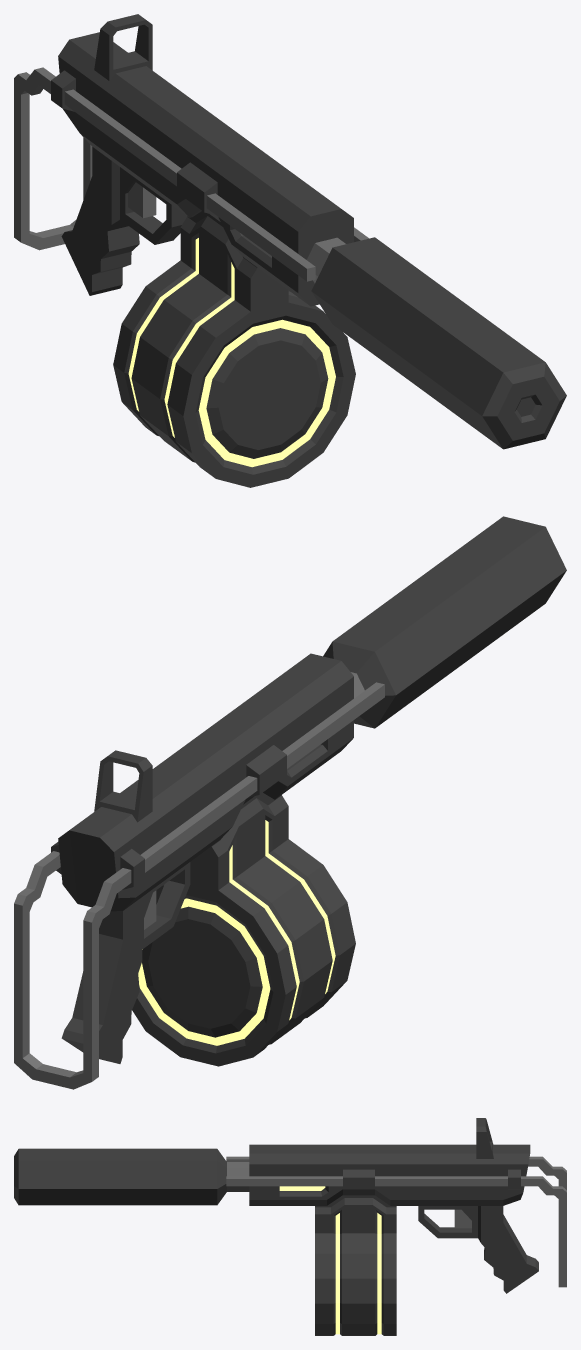
File: DrumPDW.fbx
3 renders of one model, top to bottom at view 1: azimuth 30°, elevation 25°; view 2: azimuth 150°, elevation 25°; view 3: azimuth 270°, elevation 25°, orthographic. The views are drawn at different scales.
Visible parts, largest first — view 1: DrumPDW; view 2: DrumPDW; view 3: DrumPDW.
Boxes of the visible parts, x1=… form: DrumPDW: x1=14, y1=14, x2=566, y2=487; DrumPDW: x1=14, y1=516, x2=566, y2=1089; DrumPDW: x1=14, y1=1118, x2=566, y2=1335.
Bounding box in the file's own units: 143 × 283 × 682.
